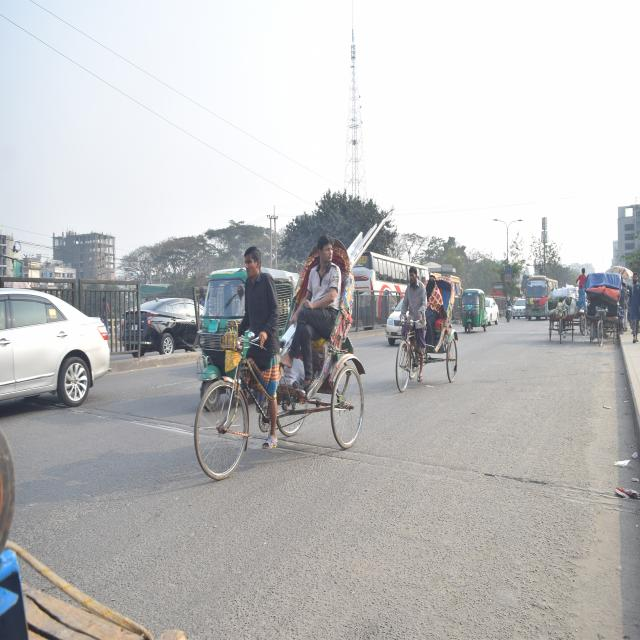bus: (526, 273, 555, 323)
car: (0, 266, 114, 428), (122, 276, 201, 366), (378, 290, 411, 350), (484, 293, 504, 331), (513, 294, 527, 320)
motorbike: (502, 292, 514, 330)
